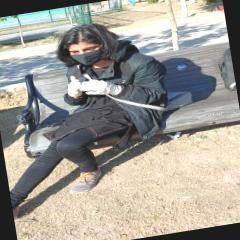gloved: (81, 76, 121, 100), (67, 78, 82, 100)
